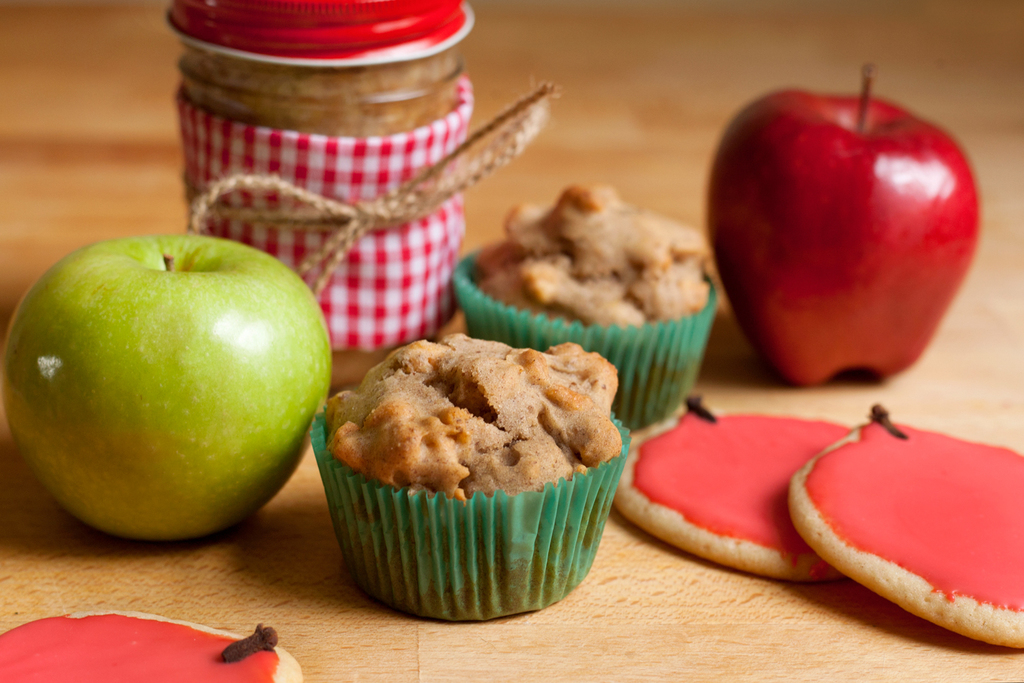Apple: (4, 228, 331, 540), (706, 60, 979, 386)
